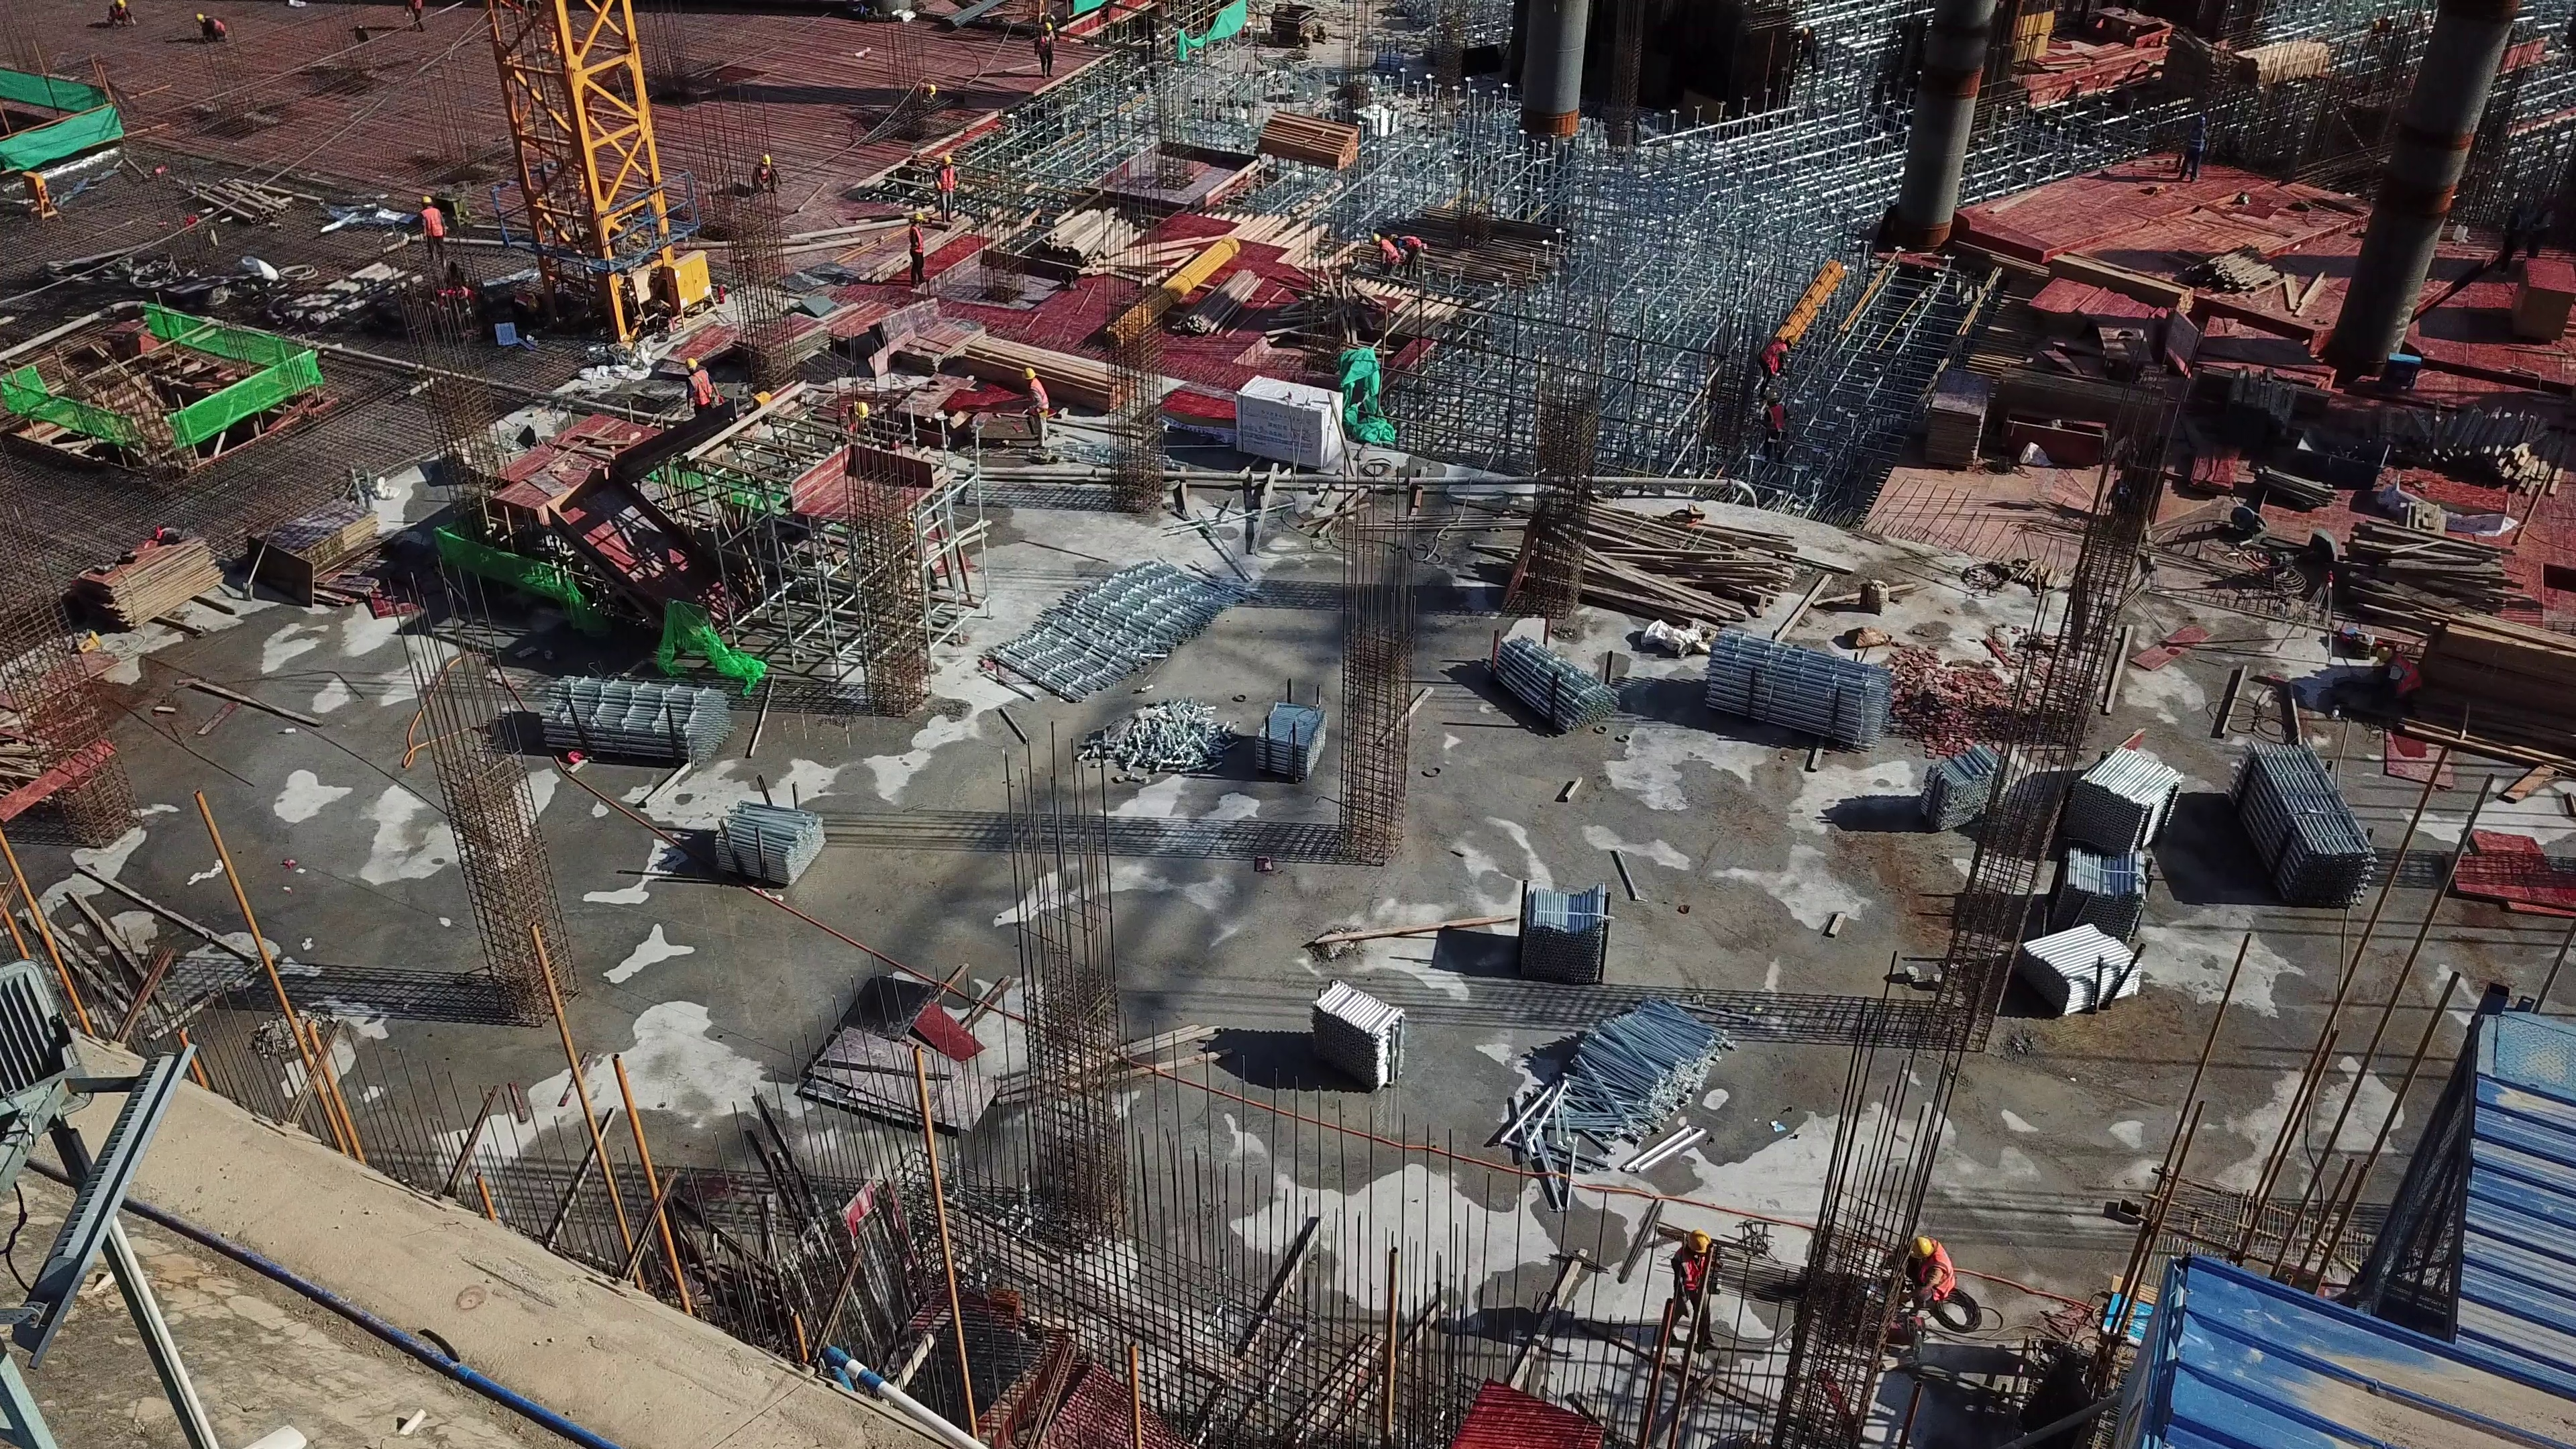board: (72, 520, 221, 637), (251, 494, 382, 608), (1916, 366, 1995, 474), (2518, 250, 2576, 341)
ebox: (653, 244, 720, 319), (21, 164, 64, 229)
person: (2359, 629, 2430, 737), (1896, 1226, 1963, 1342), (1673, 1213, 1717, 1364), (1014, 358, 1055, 476), (417, 193, 452, 264), (751, 141, 782, 219), (1364, 231, 1405, 292), (680, 357, 714, 424), (1027, 15, 1058, 92), (907, 208, 930, 305), (939, 150, 962, 231), (194, 7, 230, 53)
scaffold: (983, 543, 1222, 695), (1522, 1010, 1691, 1171), (2210, 745, 2385, 894), (1700, 649, 1884, 765), (533, 672, 717, 756), (2030, 928, 2152, 1019), (1309, 985, 1404, 1097), (1496, 628, 1604, 724), (712, 806, 831, 890), (1519, 876, 1613, 984), (2085, 742, 2173, 855), (2056, 855, 2149, 946), (1937, 753, 2030, 838), (1245, 695, 1324, 788)
wood: (2342, 523, 2576, 751), (1496, 500, 1819, 639), (2389, 392, 2576, 492), (998, 197, 1178, 292), (948, 325, 1128, 412), (2199, 219, 2333, 327), (2006, 368, 2173, 450), (2214, 360, 2298, 459), (1256, 110, 1368, 169), (2219, 35, 2330, 92)
